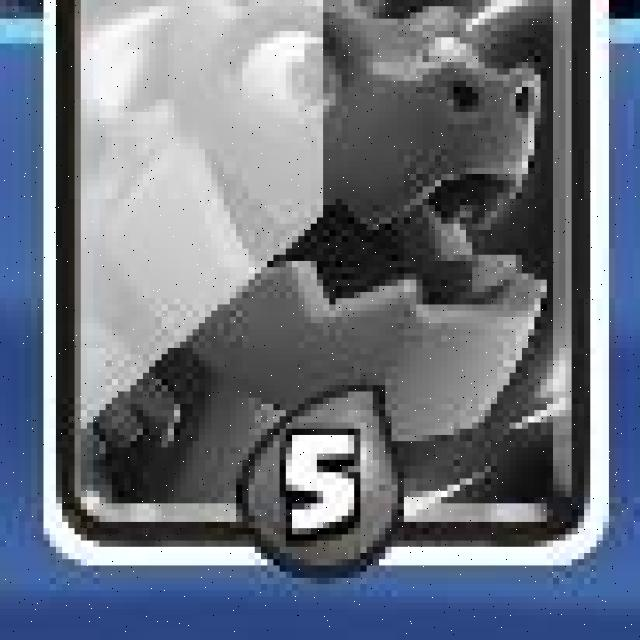Electro_Dragon: (40, 0, 616, 574)
